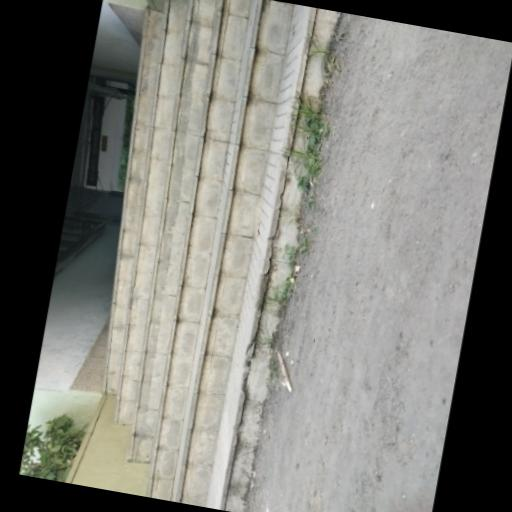stairs: (105, 0, 337, 511)
